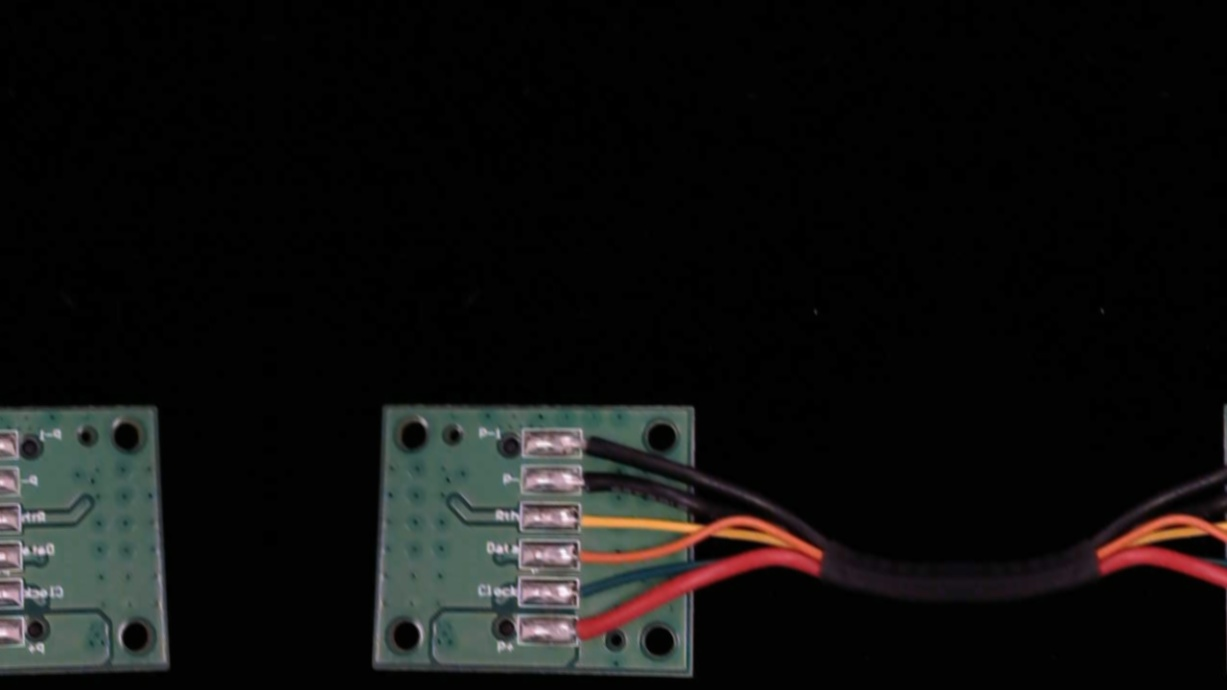Black: (560, 466, 625, 497)
Black1: (562, 427, 630, 459)
Green: (559, 575, 623, 606)
Orange: (560, 541, 626, 571)
Red: (559, 613, 623, 644)
Yellow: (559, 505, 621, 531)
